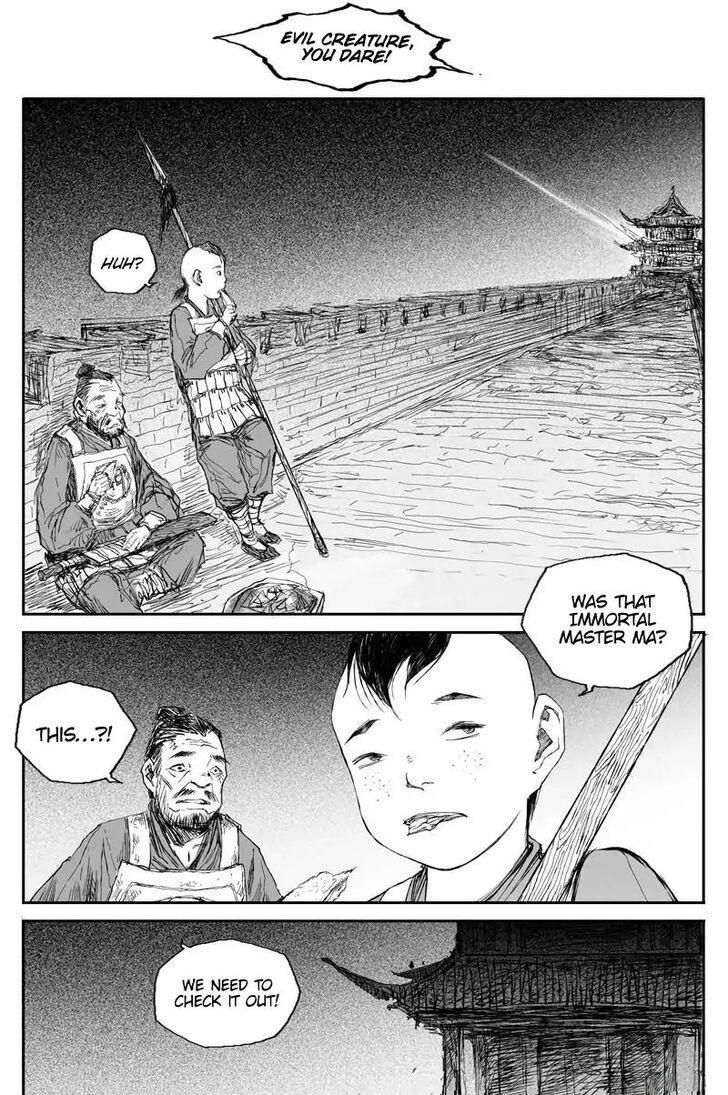Bubble: (521, 550, 694, 692), (212, 1, 474, 92), (152, 938, 303, 1049), (14, 679, 138, 785), (88, 229, 159, 297)
